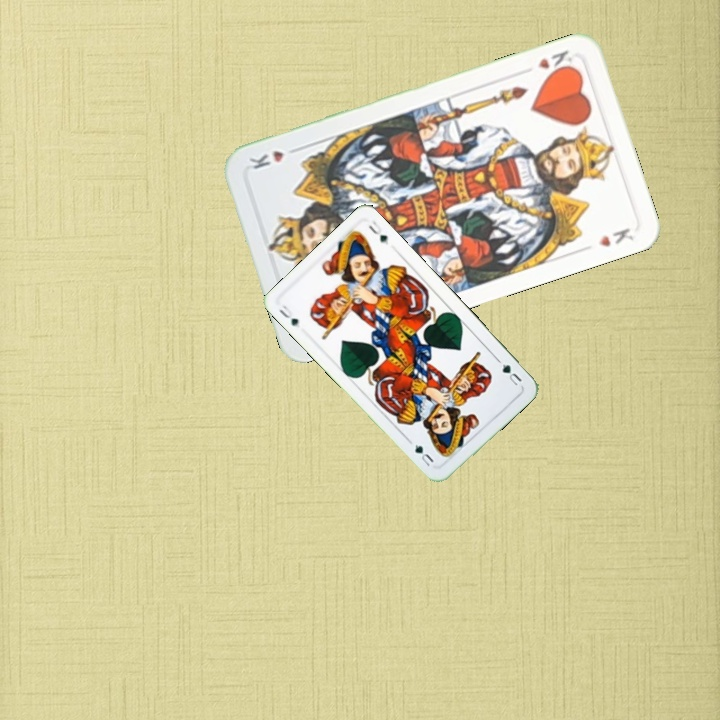GU: (498, 359, 524, 389), (274, 301, 301, 328)
HK: (533, 46, 576, 78)
